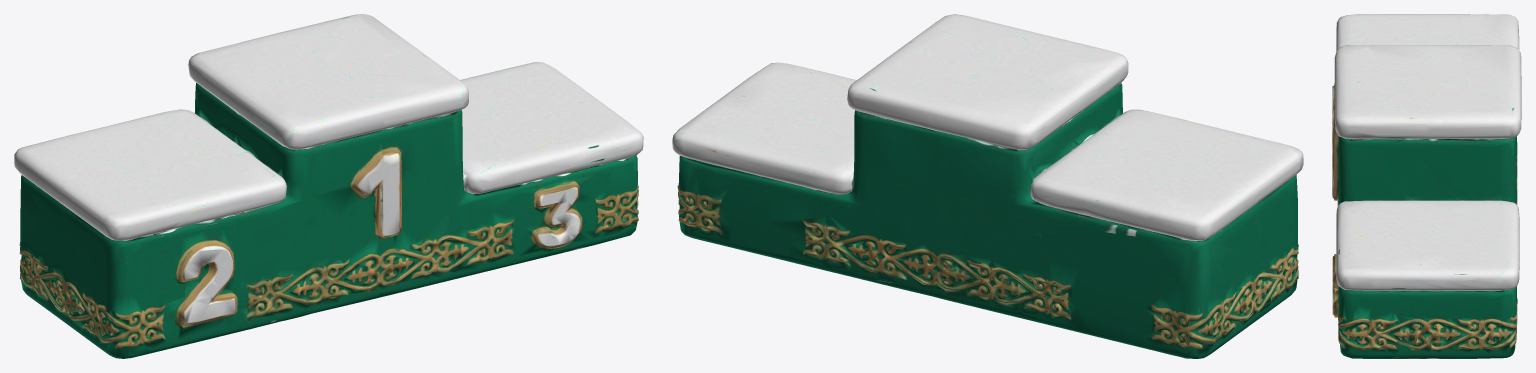
Rendered from podium.glb.
The picture shows the model from 3 angles, left to right: view 1: azimuth 30°, elevation 25°; view 2: azimuth 150°, elevation 25°; view 3: azimuth 270°, elevation 25°; orthographic projection. The views are drawn at different scales.
Size of the model in its own units: 1.9 by 0.6646 by 0.6695.
Materials: 1 (1 with a texture image).
